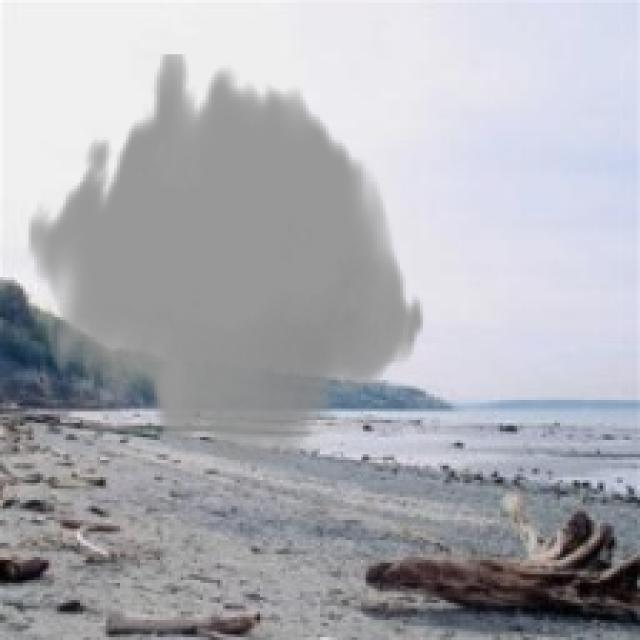smoke: (26, 54, 426, 469)
